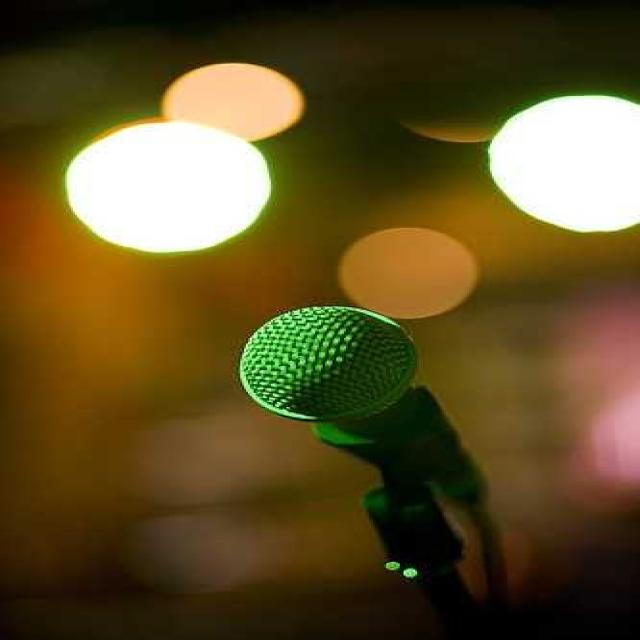microphone: (235, 302, 492, 540)
